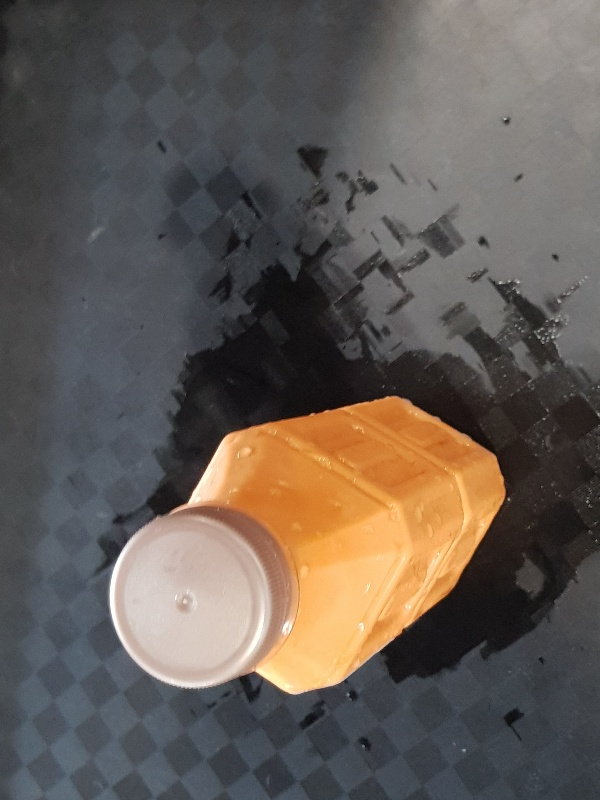Thai Milk Tea: (107, 393, 508, 696)
